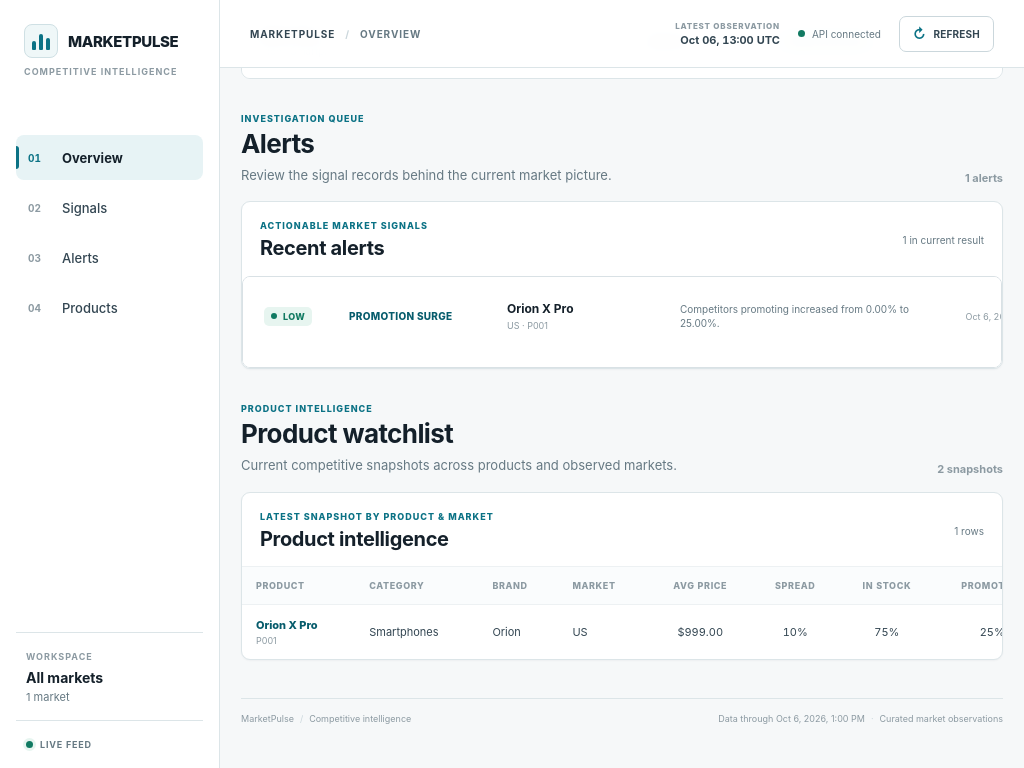
Test: MarketPulse dashboard › opens product intelligence and closes the drawer with Escape
(page scrolled)
Expected: the text "API connected" is shown, [798,28,881,40]
Click the button "Orion X Pro": (287, 624) [256,618,318,632]
(page scrolled)
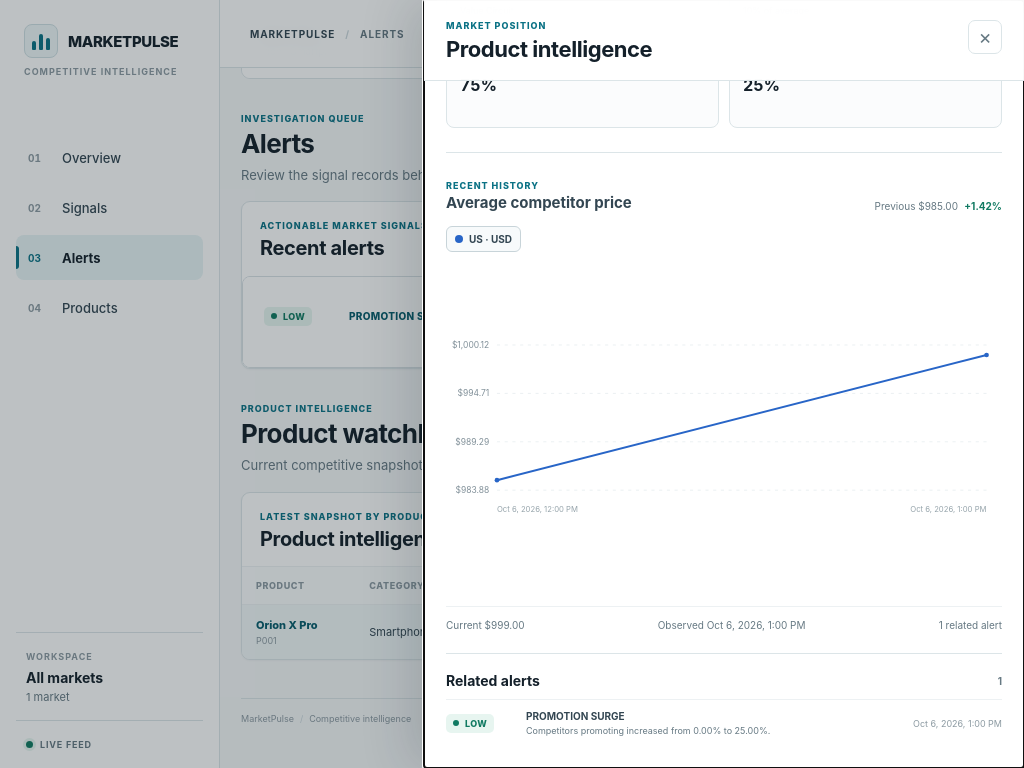
Result: the dialog is shown at [424,0,1023,767]
Result: the text "Recent history" is shown at [446,180,539,191]
Result: the text "Previous $985.00 +1.42%" is shown at [875,200,1002,212]
Click the button "PROMOTION SURGE": (724, 722) [446,699,1002,746]
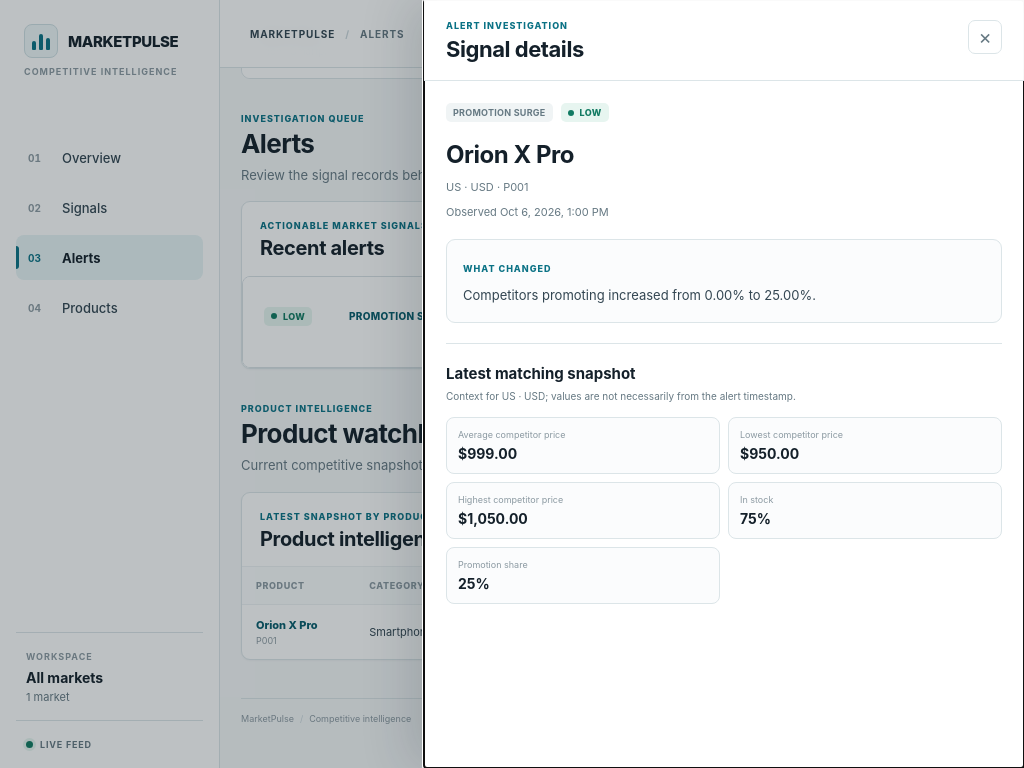
Result: the heading "Signal details" is shown at [446,36,584,62]
Press Escape
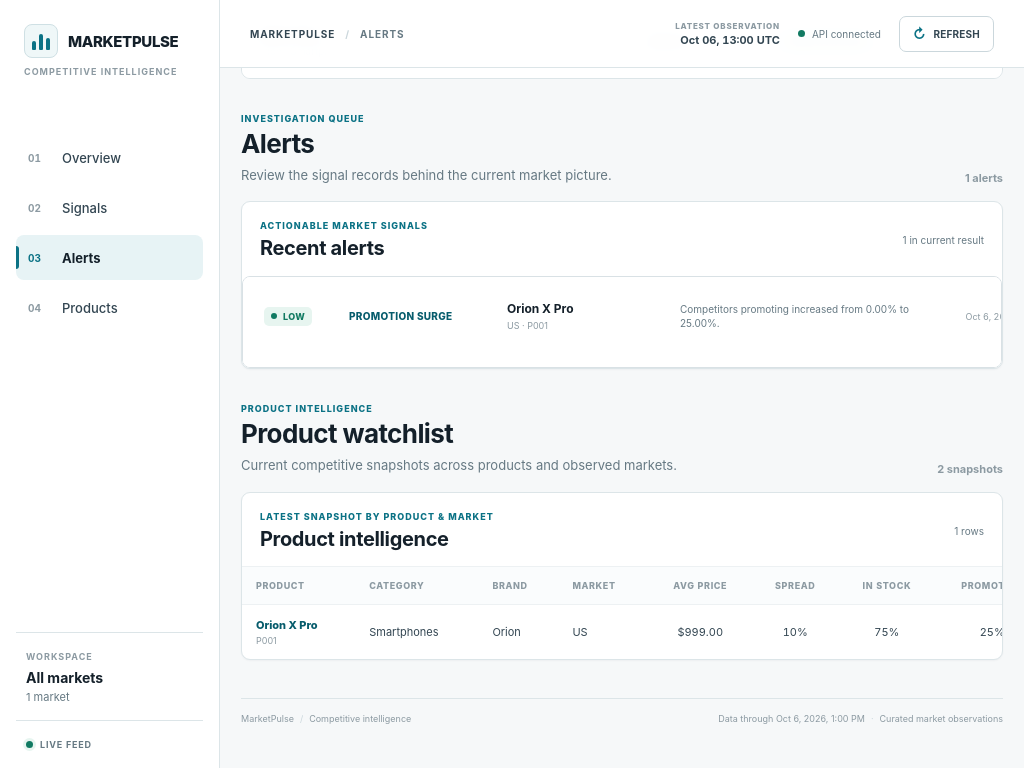
Result: the dialog is gone
